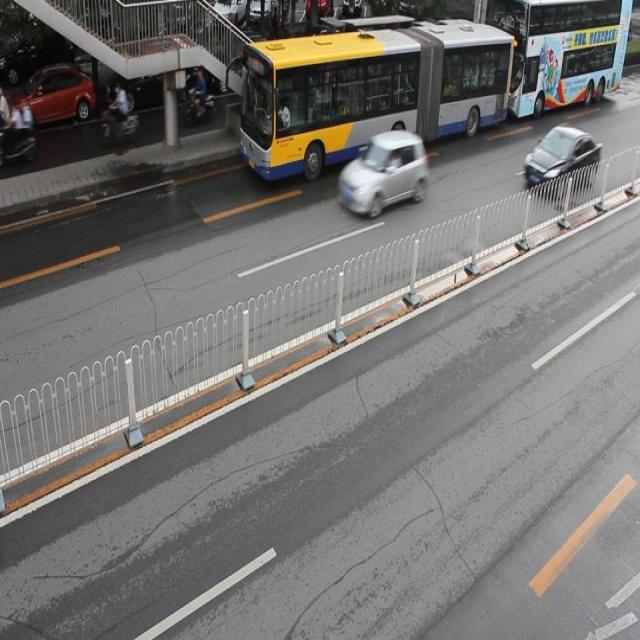car: (337, 129, 425, 215), (1, 63, 94, 128), (104, 45, 198, 106), (521, 124, 599, 194), (290, 31, 362, 90), (209, 33, 277, 94)
van: (241, 21, 512, 178), (487, 1, 631, 120)
